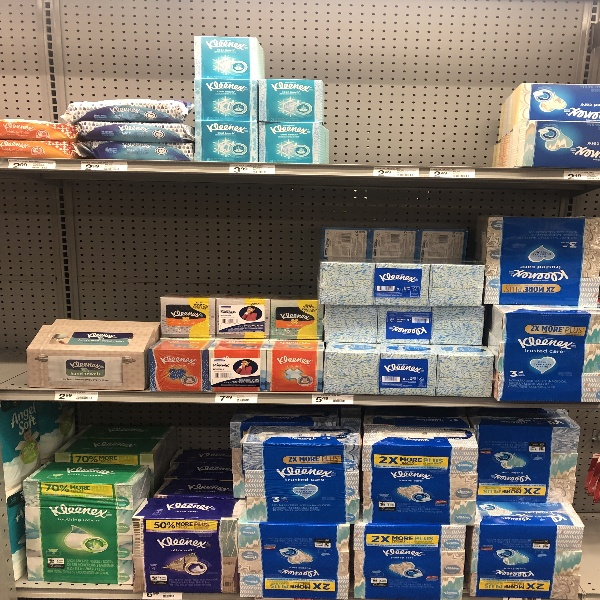void: (329, 1, 498, 171)
